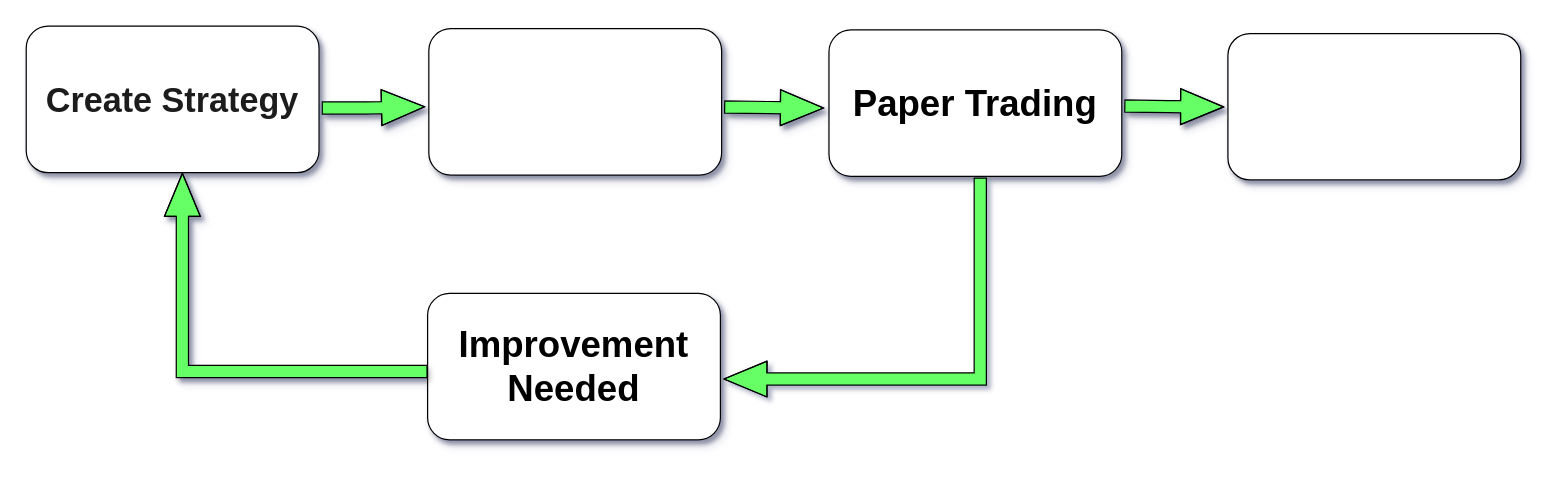
Some shapes in this 1557 by 477 pixel diagram are drawn without their labels. The shapes that lost their labels are listed below. From the top down, each one's centre as x and y in pixels, then its label:
point 576,103: Backtesting
point 1375,107: Live Trading
